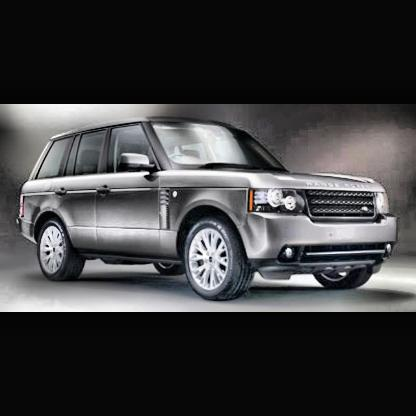Land Rover Range Rover SUV 2012: (18, 118, 399, 301)
